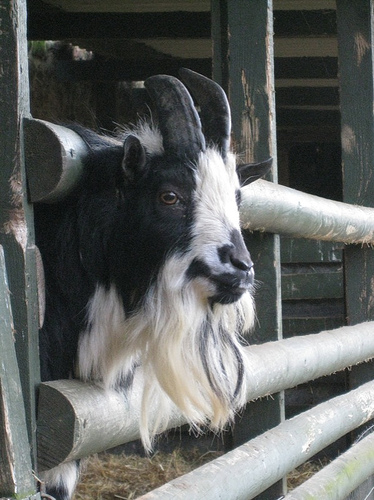goat: (36, 66, 277, 500)
